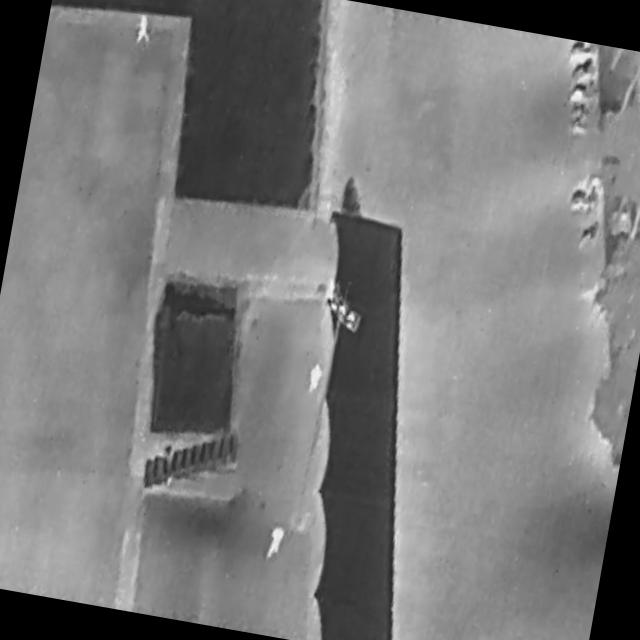person: (267, 522, 286, 560), (306, 360, 326, 396), (135, 13, 156, 46)
